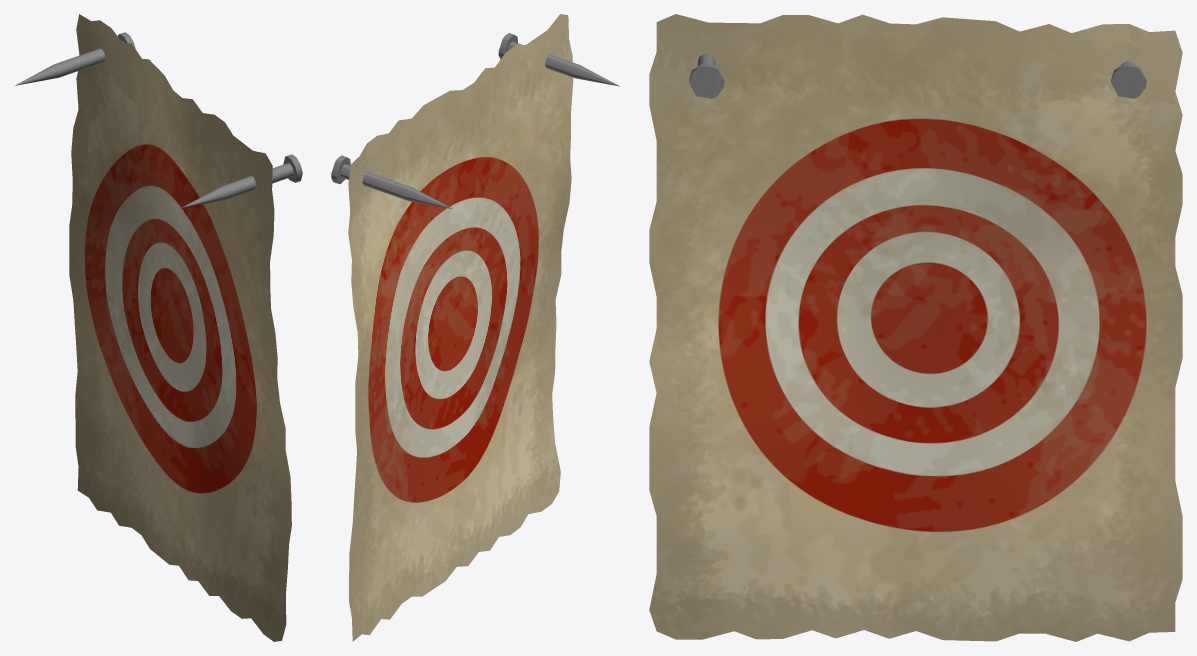
The model's file is target.glb.
3 views of the same model, side by side, from view 1: azimuth 30°, elevation 25°; view 2: azimuth 150°, elevation 25°; view 3: azimuth 270°, elevation 25° (orthographic). The views are drawn at different scales.
Visible parts, largest first — view 1: pCylinder3; view 2: pCylinder3; view 3: pCylinder3.
Boxes of the visible parts, bbox=[...] form: pCylinder3: bbox=[15, 14, 302, 641]; pCylinder3: bbox=[331, 14, 619, 641]; pCylinder3: bbox=[649, 14, 1182, 641].
Size of the model in its own units: 3.74 by 15.13 by 11.78.
Materials: 1 (1 with a texture image).
